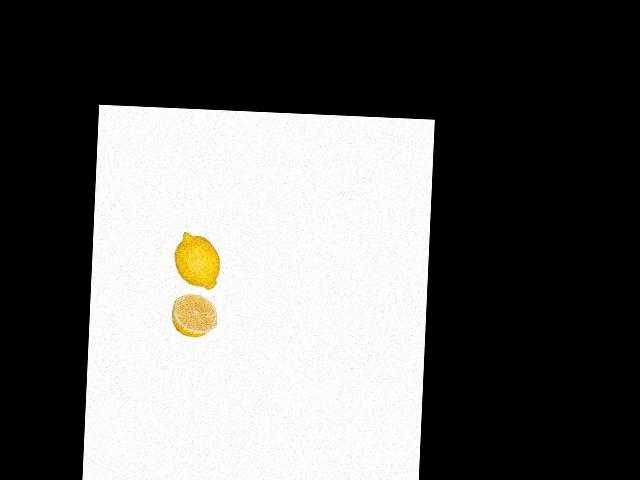lemon: (172, 233, 222, 290)
